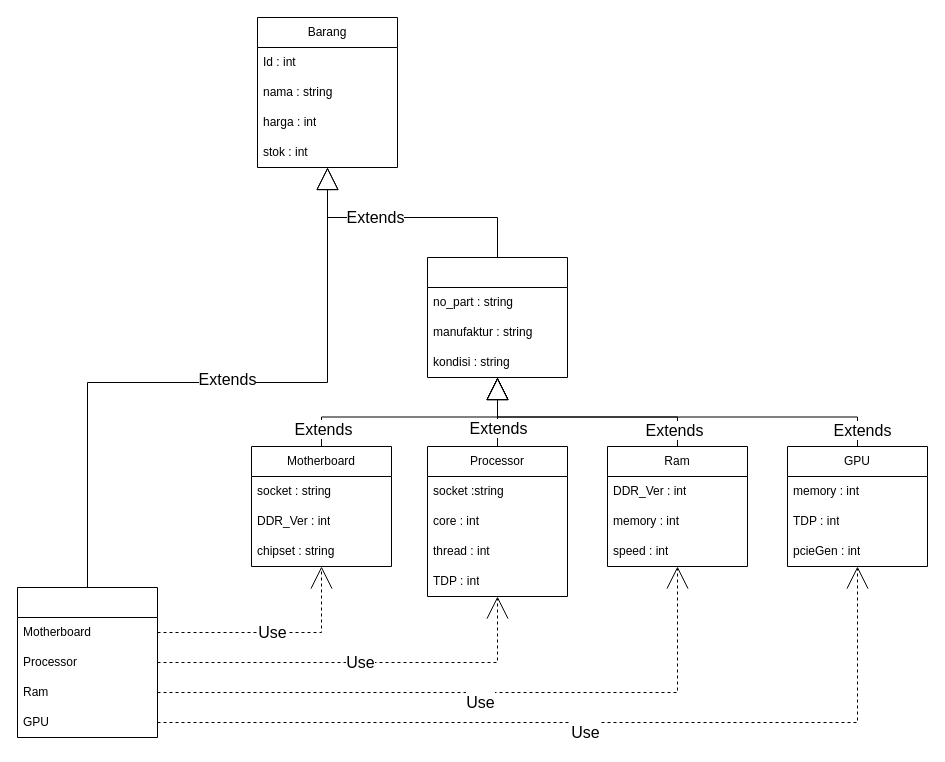
The diagram is 945 pixels wide and 762 high, and some of its shapes have lost their labels. The box of each missing label's shape, as (x1, y1, x2, y2) in pixels:
Komputer: (16, 586, 158, 738)
Part Komputer: (426, 256, 568, 378)
